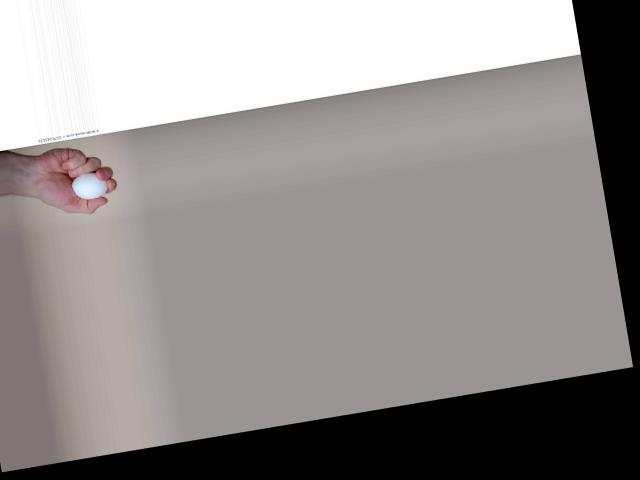egg: (69, 170, 108, 202)
